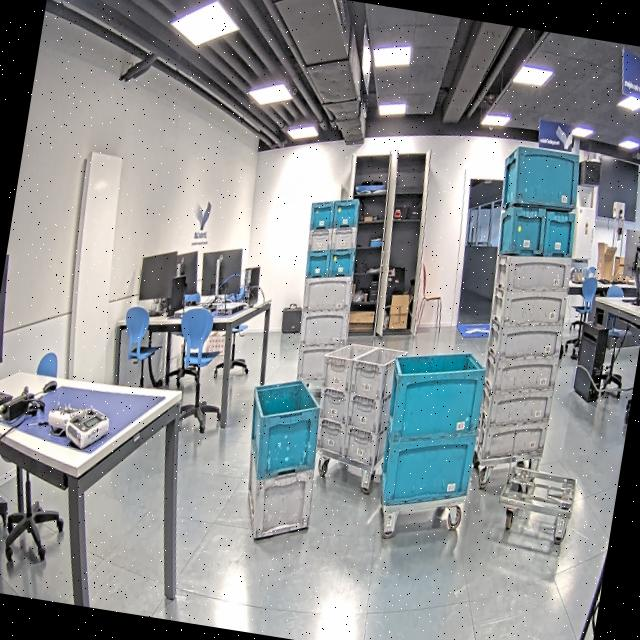Box3G: (489, 246, 576, 304), (479, 347, 562, 399), (482, 316, 568, 366), (487, 284, 572, 333), (471, 413, 549, 465), (478, 382, 554, 430)
Box4G: (296, 304, 352, 358), (296, 341, 346, 386), (302, 274, 352, 318)
Box8G: (234, 442, 320, 549), (348, 343, 408, 408), (322, 333, 376, 392), (339, 419, 393, 472), (346, 387, 394, 434), (316, 384, 355, 430), (314, 416, 351, 456), (329, 222, 359, 255), (306, 226, 334, 254)
BoxB4: (235, 373, 328, 487), (375, 423, 477, 517), (386, 343, 488, 437), (493, 137, 588, 217)
BoxB8: (494, 202, 548, 261), (537, 204, 579, 258), (325, 246, 356, 282), (306, 200, 336, 234), (330, 197, 360, 231), (303, 246, 331, 282)
